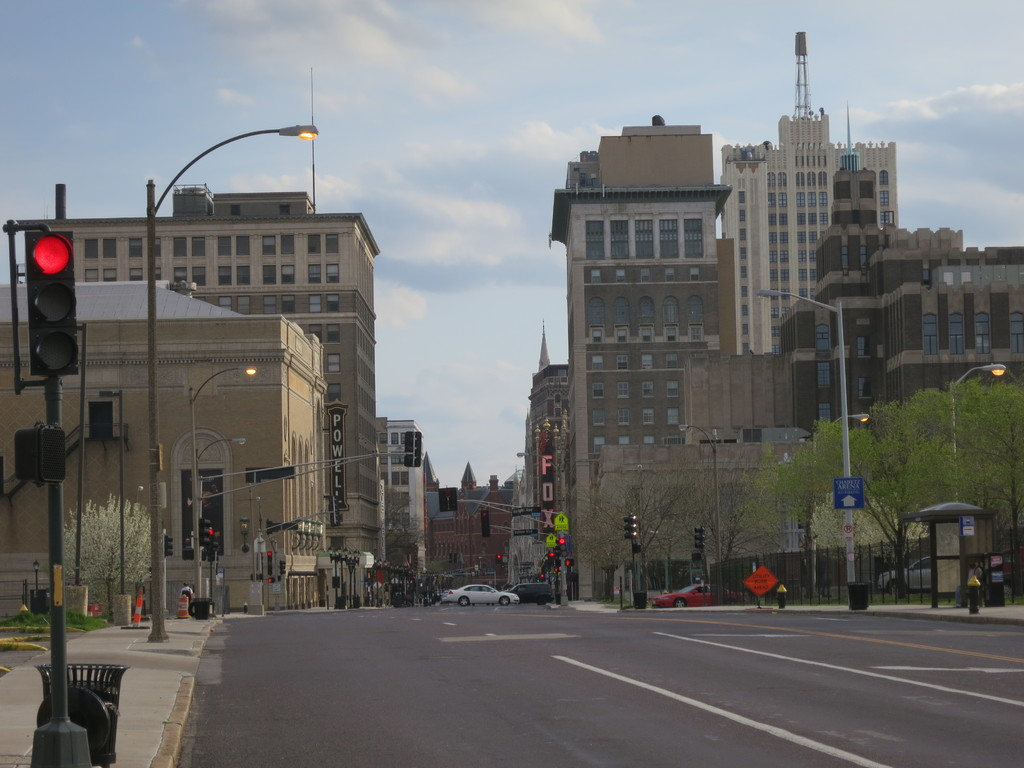red_light: (26, 234, 75, 379)
